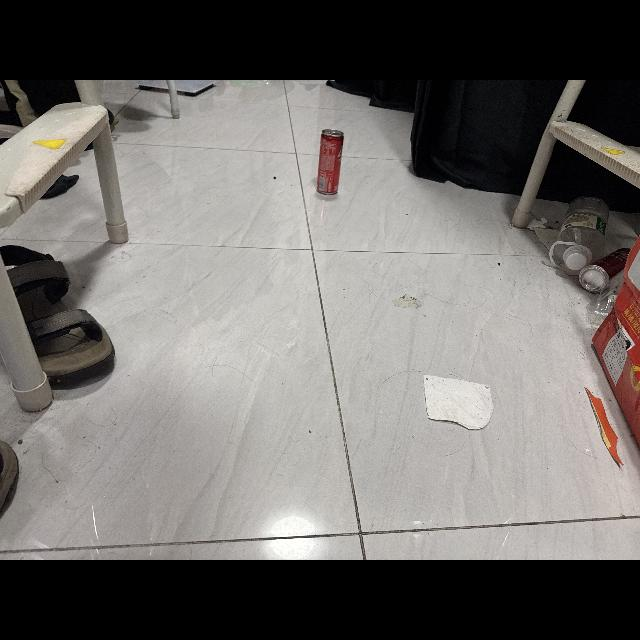Cola: (312, 124, 350, 203)
